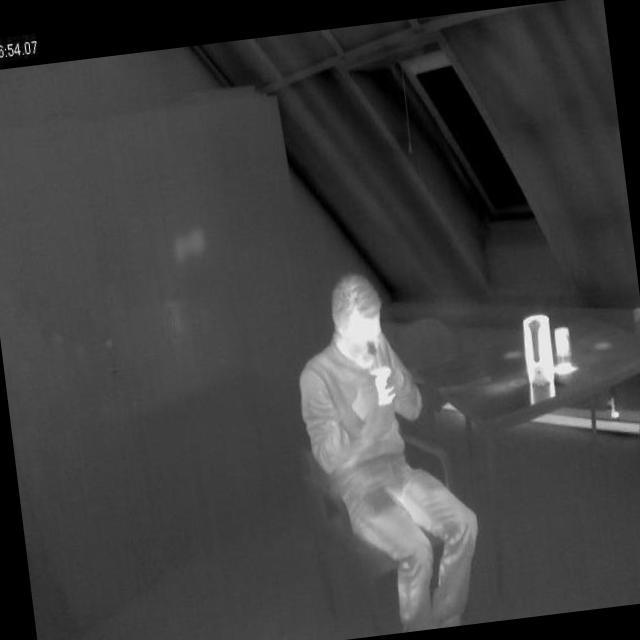person: (286, 264, 498, 638)
